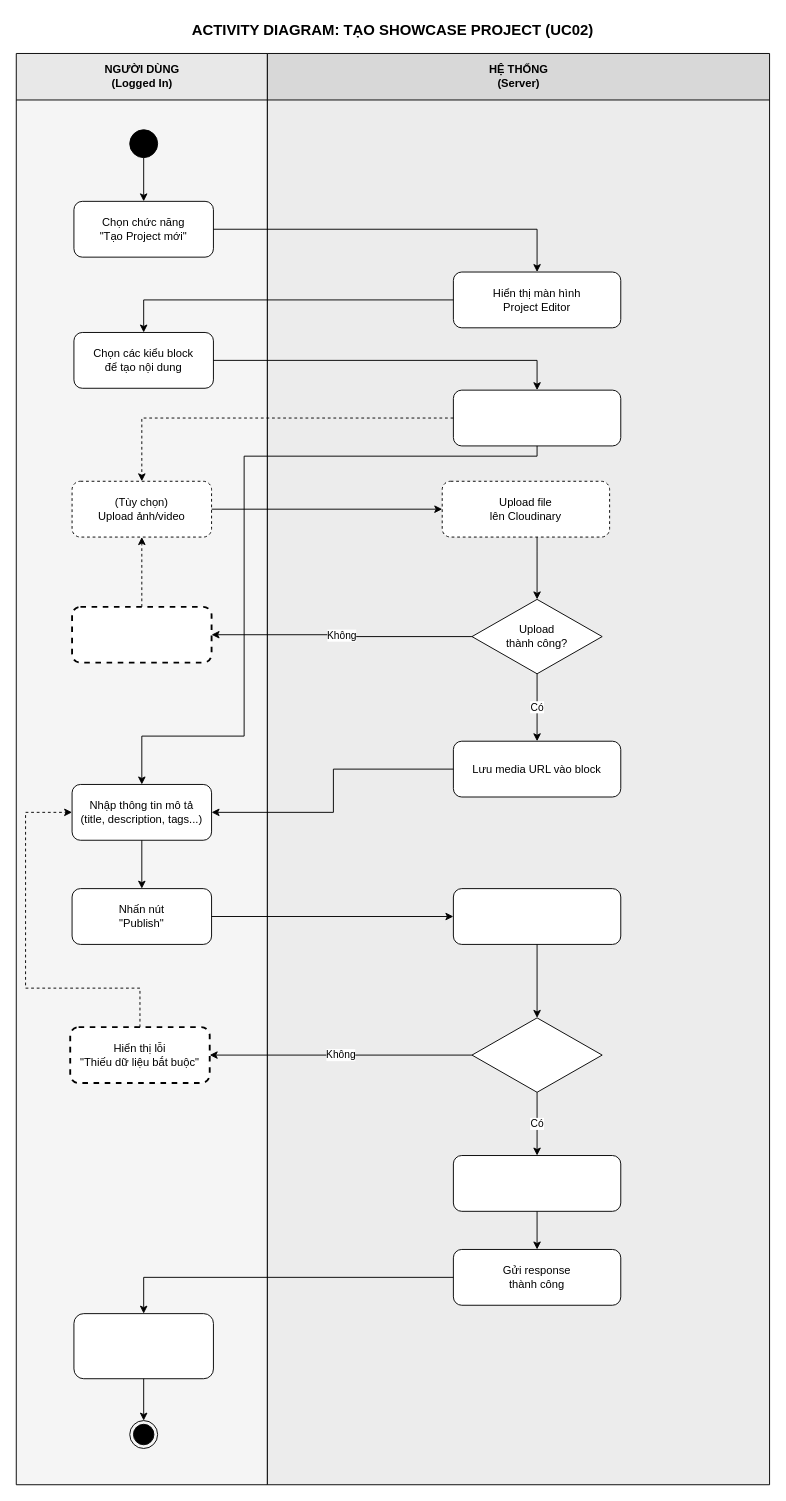
The diagram is 786 pixels wide and 1501 high, and some of its shapes have lost their labels. Here are the shapes that lost their labels. From the top down, the centre of each, then its label:
point 536,417: Lưu block content vào editor state
point 141,634: Hiển thị lỗi upload (Lỗi Cloudinary)
point 536,916: Kiểm tra dữ liệu bắt buộc (title)
point 536,1054: Dữ liệu hợp lệ?
point 536,1183: Lưu project vào MongoDB (status: published)
point 143,1346: Hiển thị thông báo "Project published successfully!" Chuyển hướng đến project
